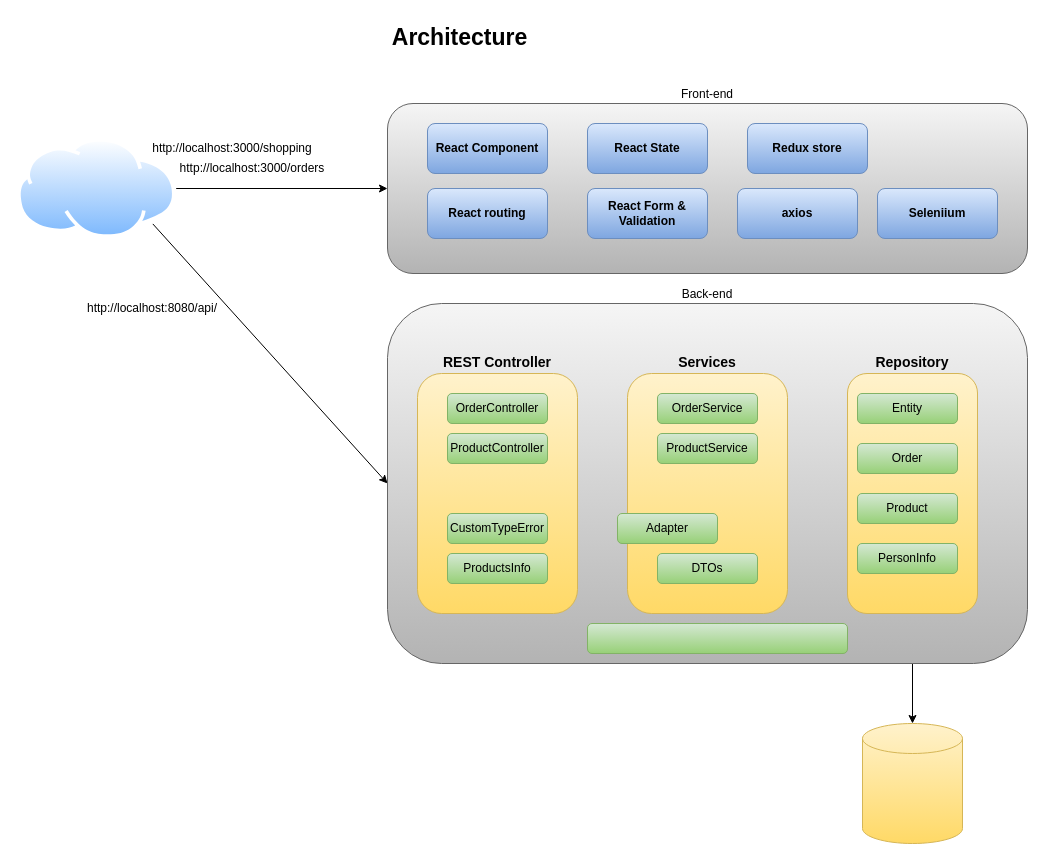
This 1045x861 diagram has some shape labels left out. Here are the shapes that lost their labels. From the top down, the centre of each, then its label:
point (96, 188): http://localhost:3000/products
point (717, 638): JUnit / RestAssured
point (912, 783): MongoDB
